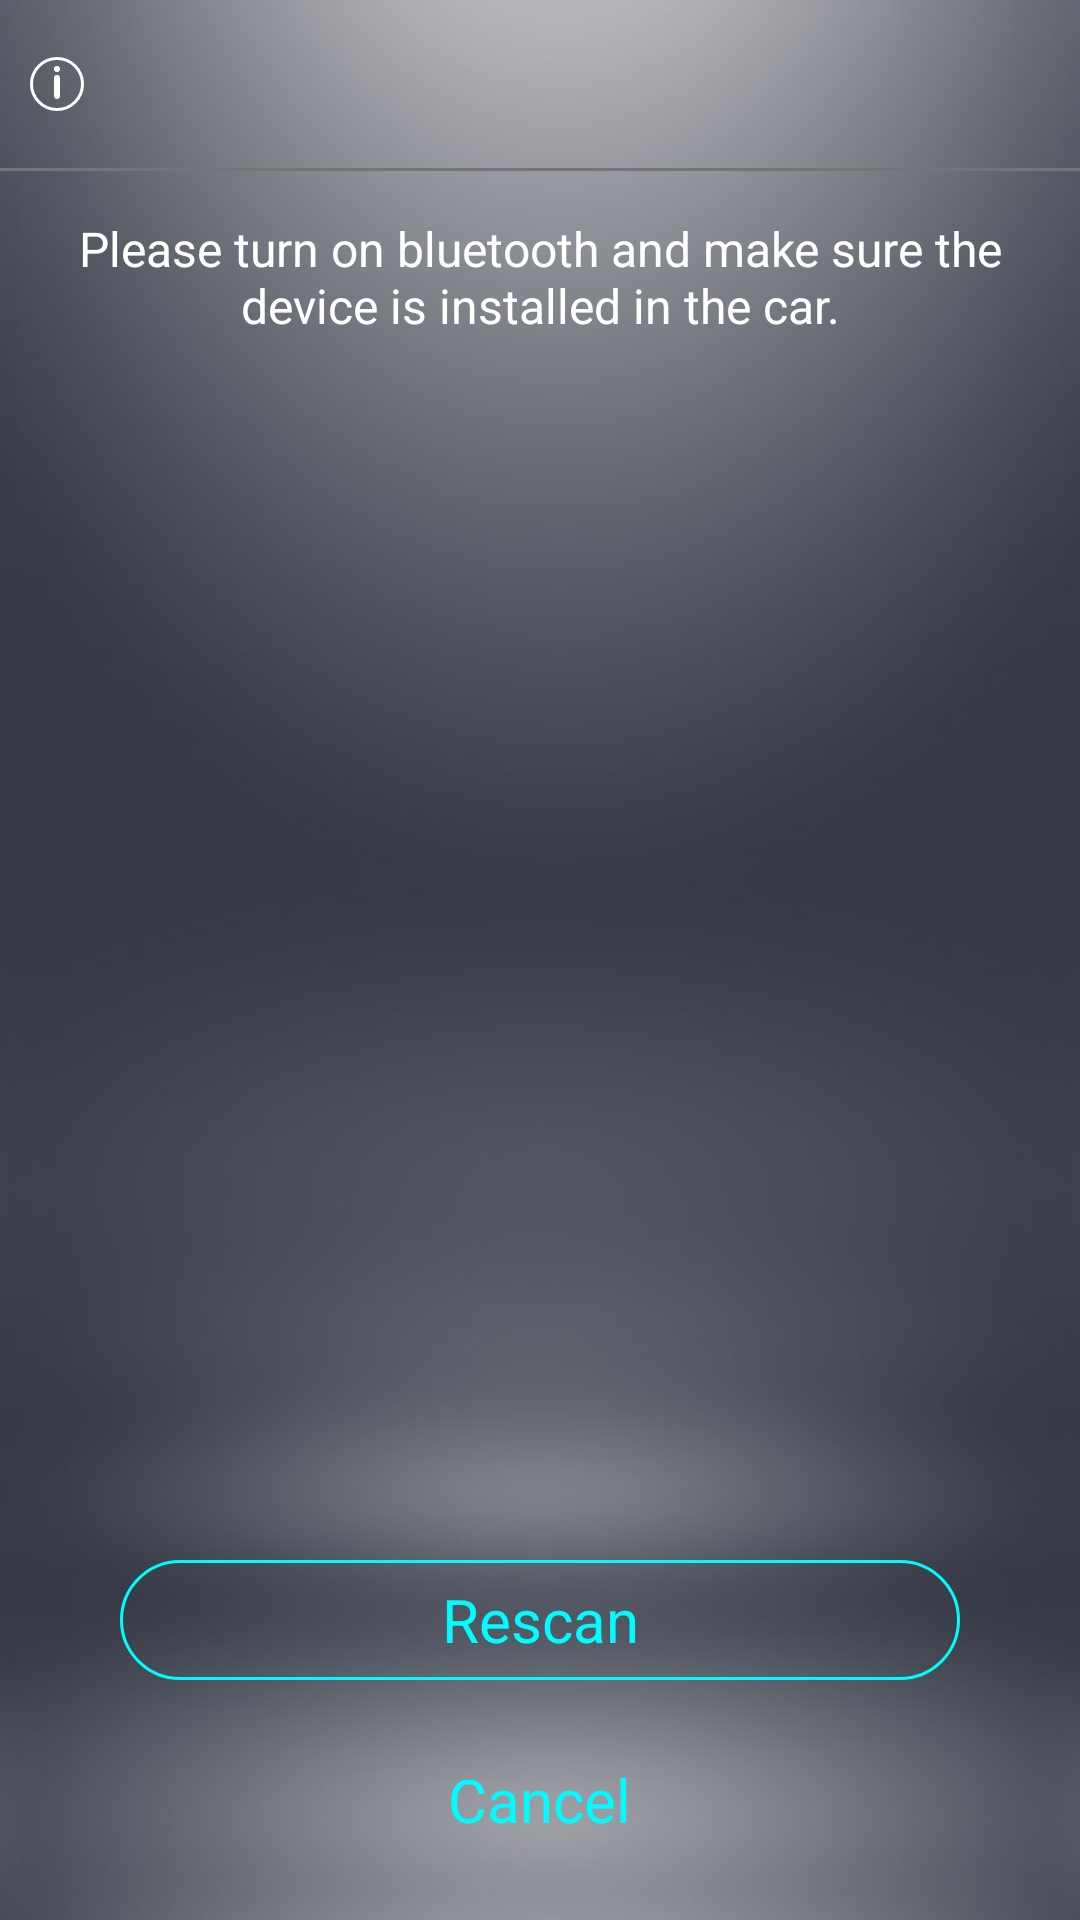

Where to tap for icons on this 1080×1920 app screen, as point (x, y):
help: point (72, 84)
